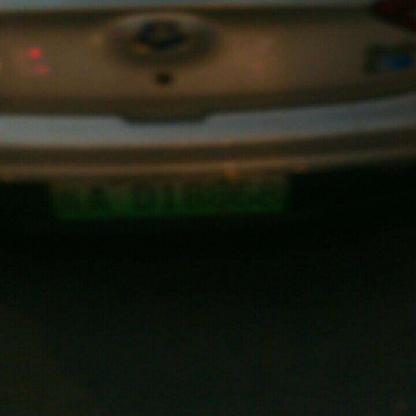lp: (54, 170, 286, 219)
